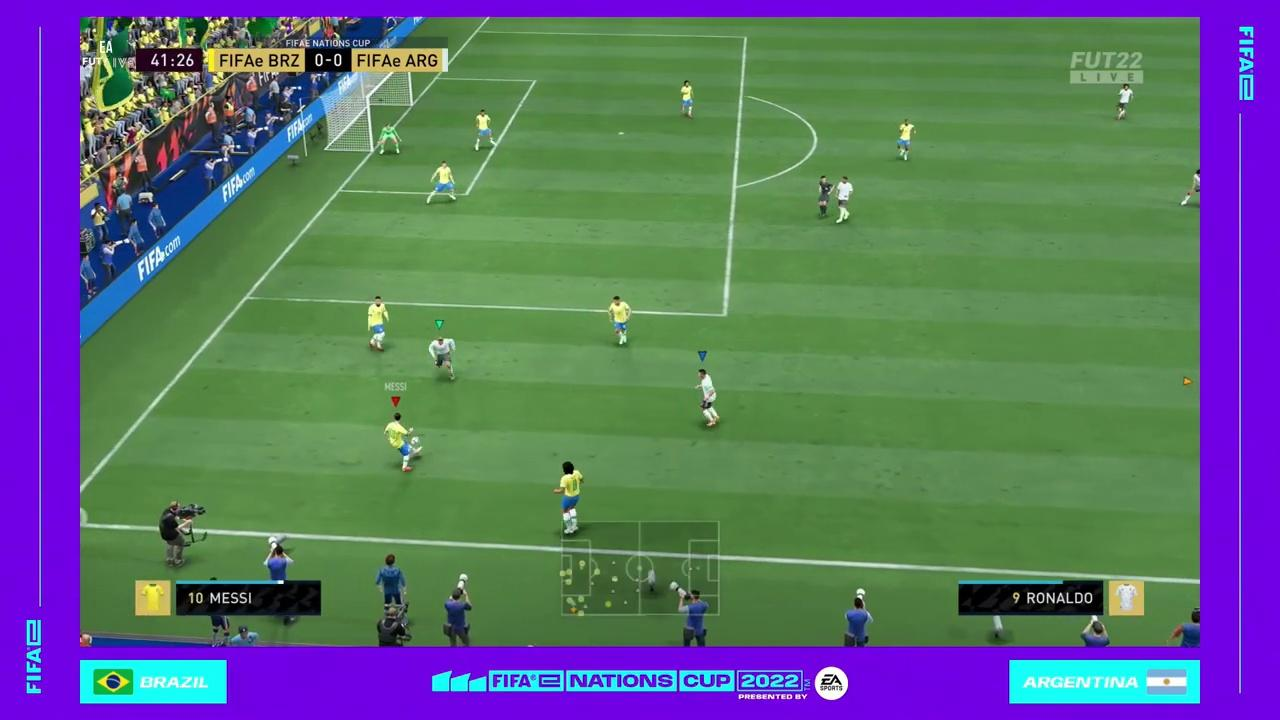scoreboard: (207, 48, 448, 73)
timestamp: (136, 47, 204, 70)
